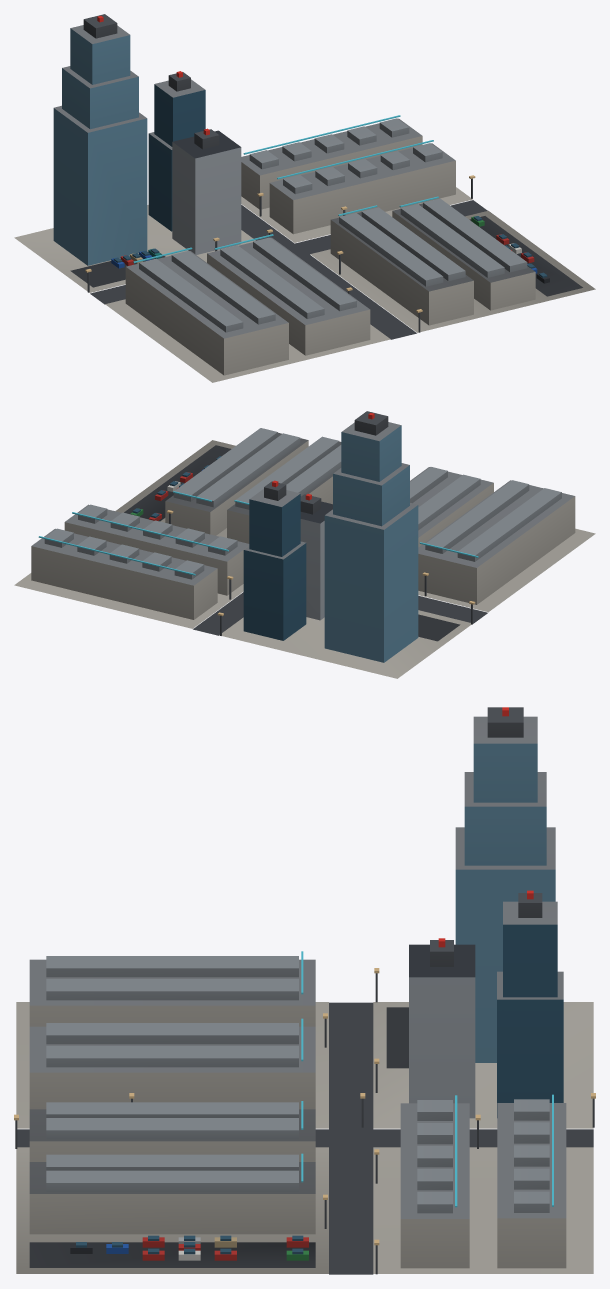
The model's file is district_tech_park.fbx.
3 views of the same model, one above another, from view 1: azimuth 30°, elevation 25°; view 2: azimuth 150°, elevation 25°; view 3: azimuth 270°, elevation 25° (orthographic). The views are drawn at different scales.
Parts seen in each view (by area): view 1: district_tech_park; view 2: district_tech_park; view 3: district_tech_park.
Part boxes in pixels (<box>): district_tech_park: <box>14,14,595,382</box>; district_tech_park: <box>14,411,595,678</box>; district_tech_park: <box>14,707,595,1274</box>.
Size of the model in its own units: 117 by 66.35 by 105.
